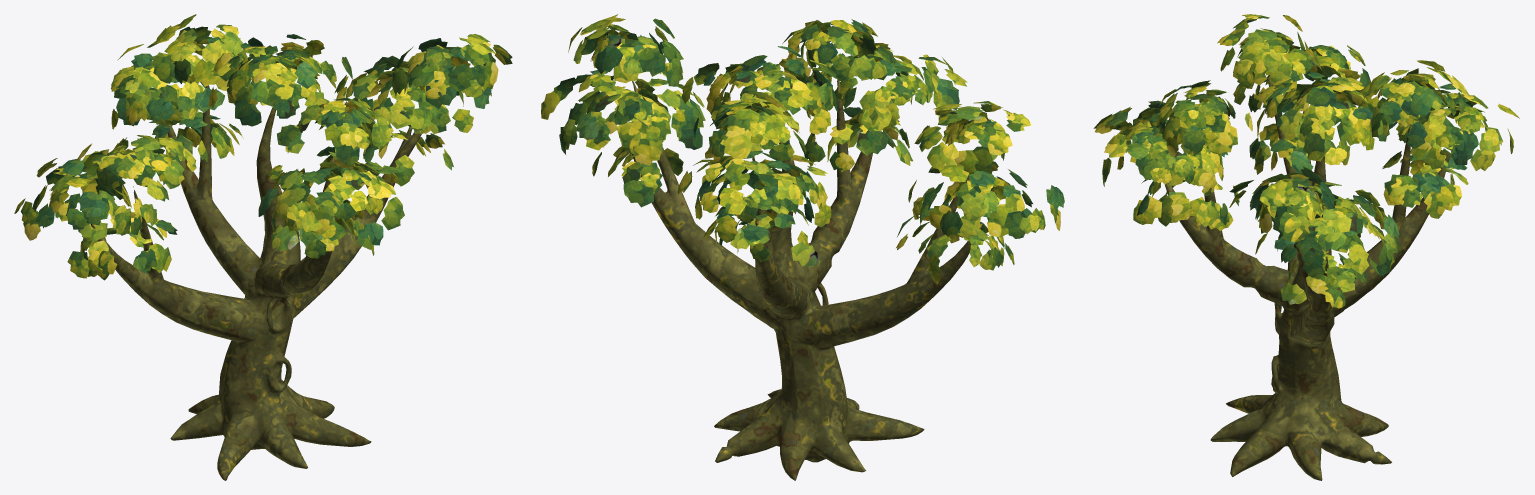
Rendered from open_canopy_lod1.glb.
3 views of the same model, side by side, from view 1: azimuth 30°, elevation 25°; view 2: azimuth 150°, elevation 25°; view 3: azimuth 270°, elevation 25° (orthographic). The views are drawn at different scales.
Parts seen in each view (by area): view 1: Leaves_LOD1.001, Trunk_LOD1.001; view 2: Leaves_LOD1.001, Trunk_LOD1.001; view 3: Leaves_LOD1.001, Trunk_LOD1.001.
Boxes of the visible parts, x1,y1,x2,y2 form: Leaves_LOD1.001: [14, 14, 512, 280]; Trunk_LOD1.001: [91, 85, 421, 480]; Leaves_LOD1.001: [541, 14, 1064, 284]; Trunk_LOD1.001: [632, 80, 982, 480]; Leaves_LOD1.001: [1093, 14, 1519, 308]; Trunk_LOD1.001: [1165, 77, 1450, 480].
Bounding box in the file's own units: 7.17 × 5.38 × 5.52.
Materials: 2 (2 with a texture image).
